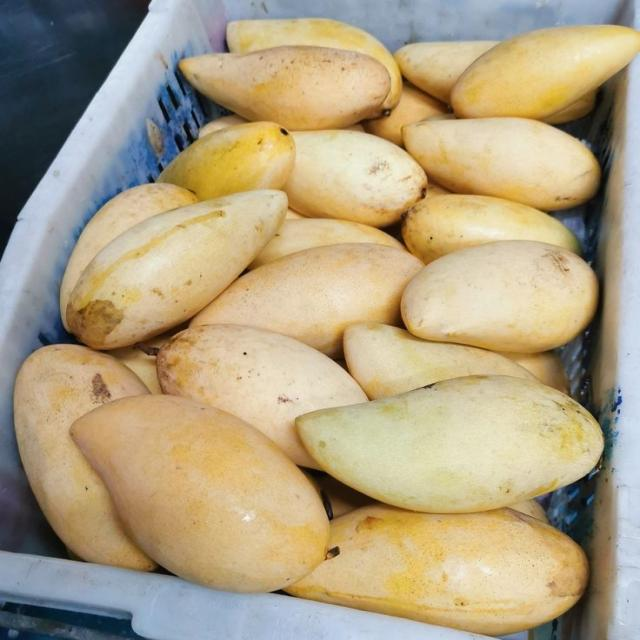mango: (70, 395, 329, 592), (296, 375, 603, 512), (287, 503, 588, 635), (66, 190, 286, 348), (14, 345, 156, 570), (157, 324, 367, 468), (191, 243, 422, 357), (401, 240, 597, 352), (404, 118, 600, 210), (179, 46, 390, 130), (60, 184, 197, 313), (451, 25, 639, 118), (227, 18, 401, 114), (344, 324, 537, 400), (283, 130, 426, 226), (403, 193, 580, 263), (157, 123, 294, 200), (249, 219, 406, 269), (394, 41, 498, 103)
